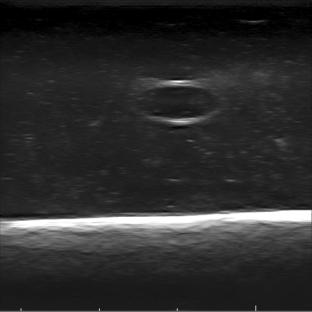vessel: (138, 80, 223, 125)
